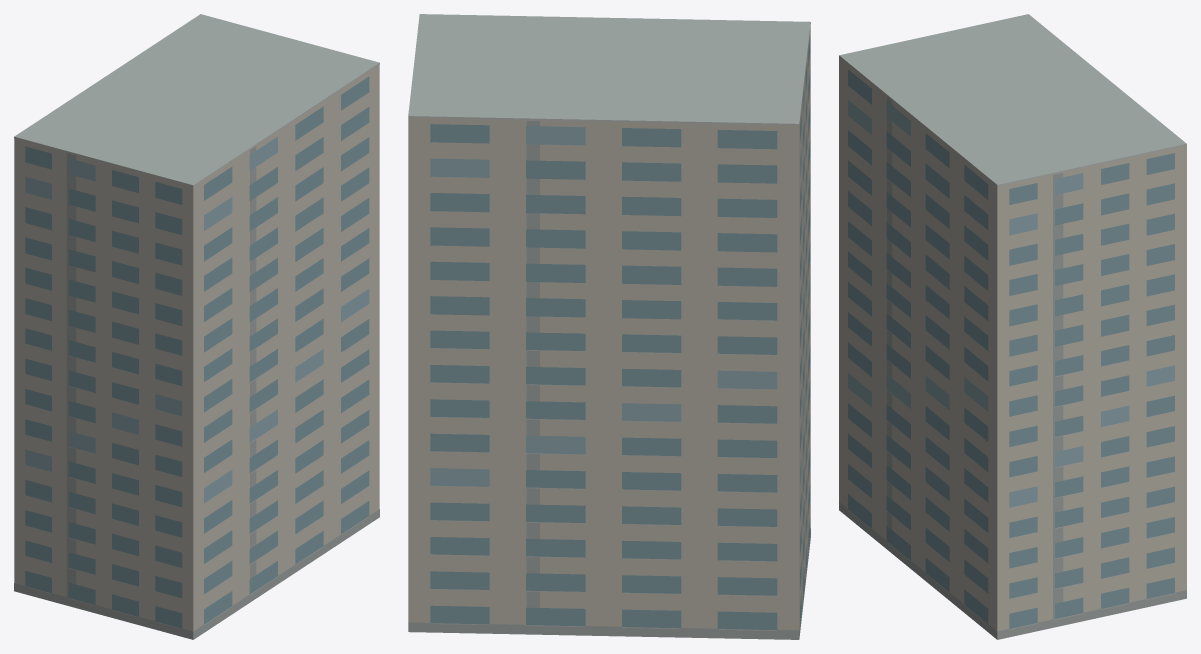
Rendered from residential-0cd2a7f6-ec65-4c3b-8045-287a32d07756.glb.
The picture shows the model from 3 angles, left to right: view 1: azimuth 30°, elevation 25°; view 2: azimuth 150°, elevation 25°; view 3: azimuth 270°, elevation 25°; orthographic projection. The views are drawn at different scales.
Visible parts, largest first — view 1: residential-0cd2a7f6-ec65-4c3b-8045-287a32d07756.tmp; view 2: residential-0cd2a7f6-ec65-4c3b-8045-287a32d07756.tmp; view 3: residential-0cd2a7f6-ec65-4c3b-8045-287a32d07756.tmp.
Boxes of the visible parts, <box> form: residential-0cd2a7f6-ec65-4c3b-8045-287a32d07756.tmp: <box>14,14,379,639</box>; residential-0cd2a7f6-ec65-4c3b-8045-287a32d07756.tmp: <box>408,14,810,639</box>; residential-0cd2a7f6-ec65-4c3b-8045-287a32d07756.tmp: <box>839,14,1186,639</box>.
Size of the model in its own units: 41.91 by 52 by 36.02.
